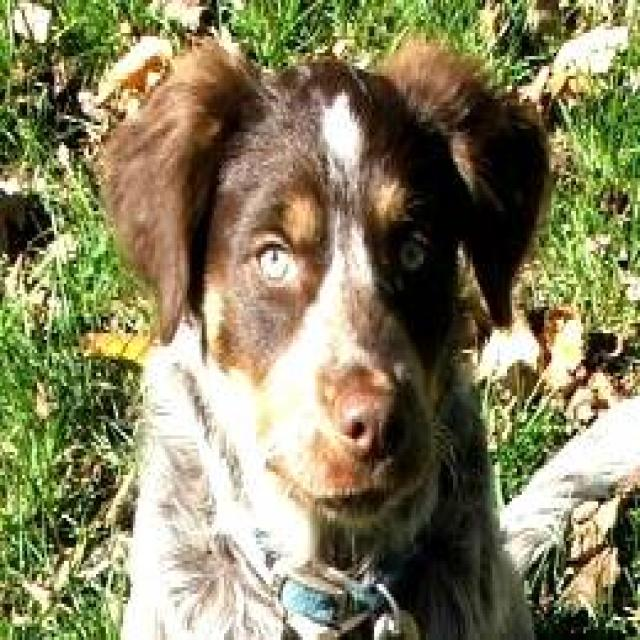dog: (91, 29, 554, 636)
